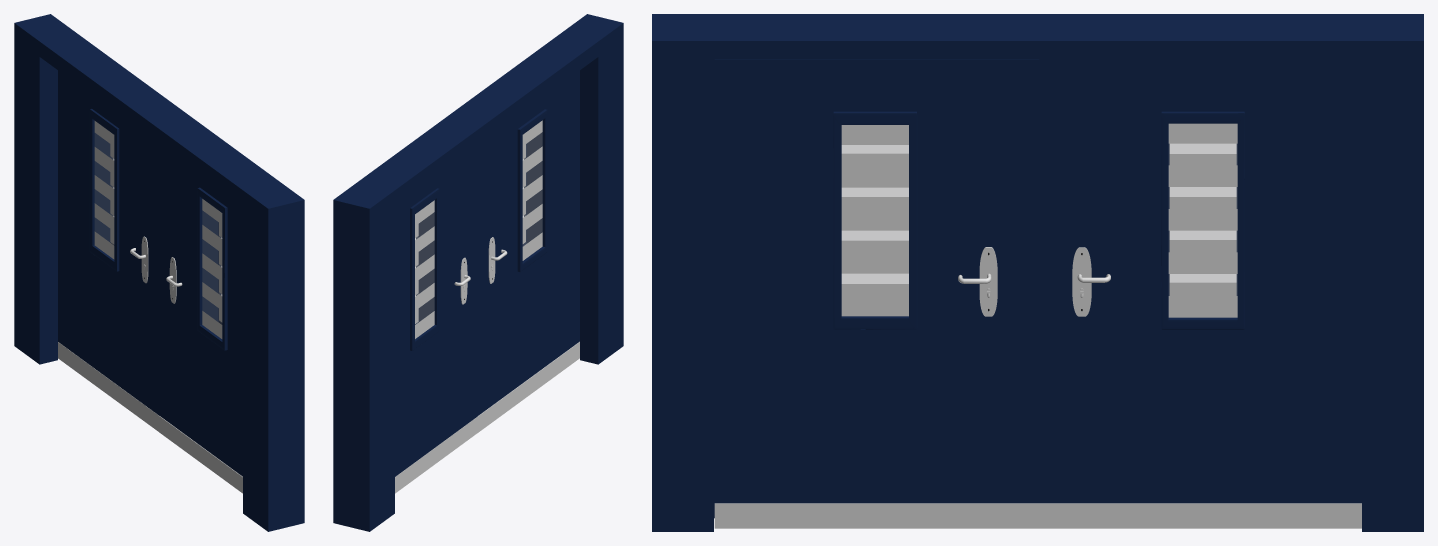
File: Door .fbx
3 views of the same model, side by side, from view 1: azimuth 30°, elevation 25°; view 2: azimuth 150°, elevation 25°; view 3: azimuth 270°, elevation 25° (orthographic). The views are drawn at different scales.
Parts seen in each view (by area): view 1: DoorFrame, Cube.168, Cube.189; view 2: DoorFrame, Cube.189, Cube.168; view 3: Cube.189, Cube.168, DoorFrame.
Part boxes in pixels (<box>): DoorFrame: <box>14,14,304,531</box>; Cube.168: <box>58,70,159,431</box>; Cube.189: <box>159,145,242,493</box>; DoorFrame: <box>333,14,623,531</box>; Cube.189: <box>477,70,579,432</box>; Cube.168: <box>395,146,477,493</box>; Cube.189: <box>714,59,1039,528</box>; Cube.168: <box>1039,59,1361,528</box>; DoorFrame: <box>652,14,1423,531</box>.
Bounding box in the file's own units: 50.01 × 349 × 498.
